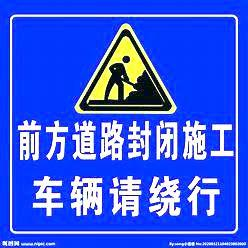sign: (7, 5, 240, 236)
